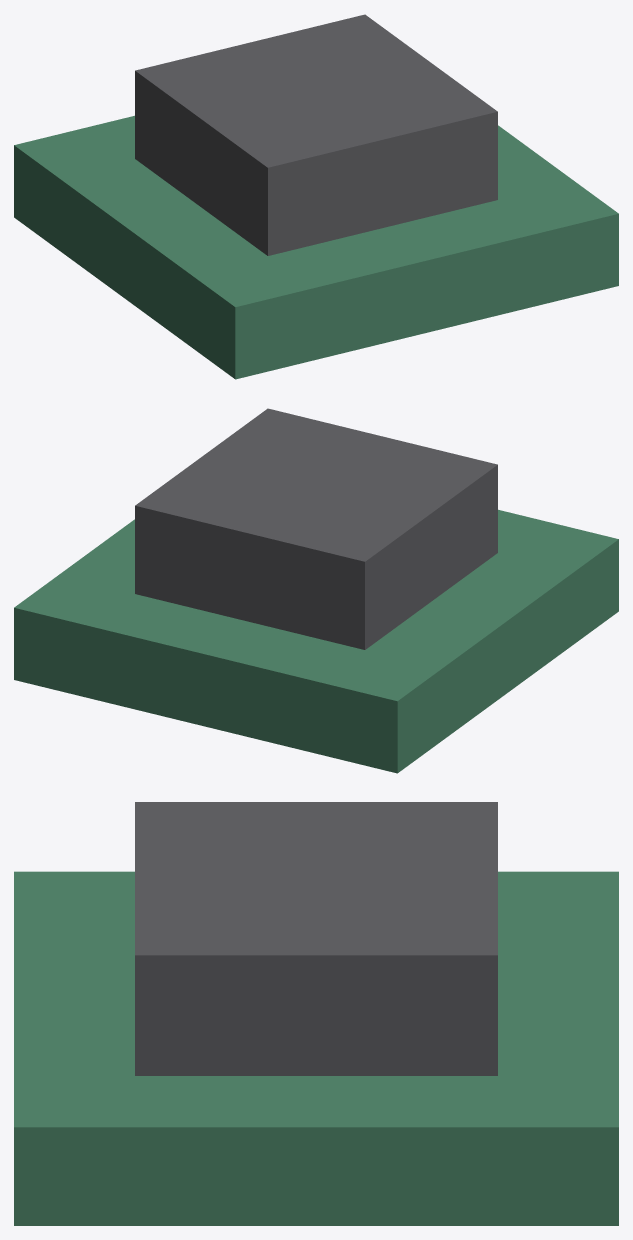
The picture shows the model from 3 angles, top to bottom: view 1: azimuth 30°, elevation 25°; view 2: azimuth 150°, elevation 25°; view 3: azimuth 270°, elevation 25°; orthographic projection. The views are drawn at different scales.
Visible parts, largest first — view 1: cp2102-pcb, cp2102-ic; view 2: cp2102-pcb, cp2102-ic; view 3: cp2102-pcb, cp2102-ic.
Part boxes in pixels (<box>): cp2102-pcb: <box>14,115,618,379</box>; cp2102-ic: <box>135,14,497,255</box>; cp2102-pcb: <box>14,509,618,773</box>; cp2102-ic: <box>135,408,497,649</box>; cp2102-pcb: <box>14,871,618,1225</box>; cp2102-ic: <box>135,802,497,1075</box>.
Size of the model in its own units: 0.005 by 0.002 by 0.005.
